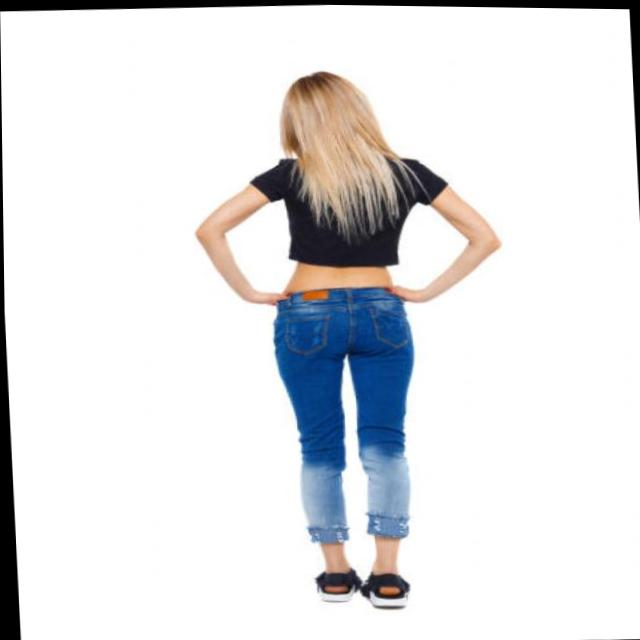no helmet: (265, 60, 386, 167)
